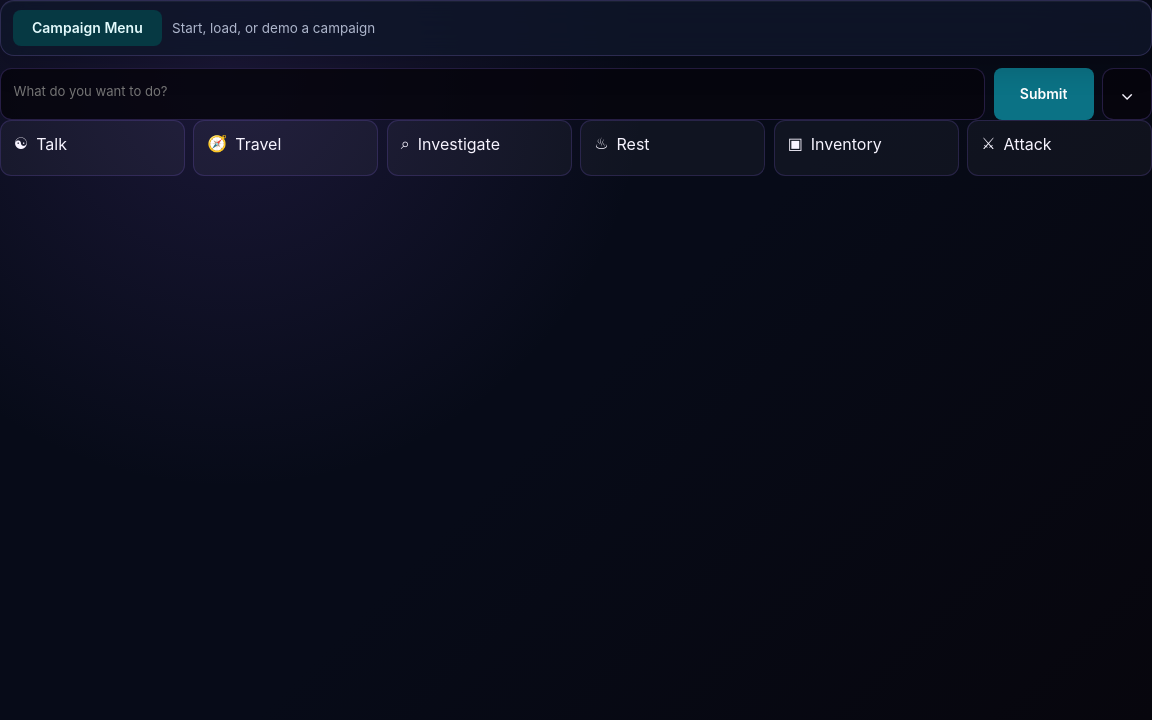
Test: RpgActionComposer › routes New Campaign from the launcher into the full campaign wizard
Click the button "Campaign Menu" at (87, 28), box [13,10,162,46]
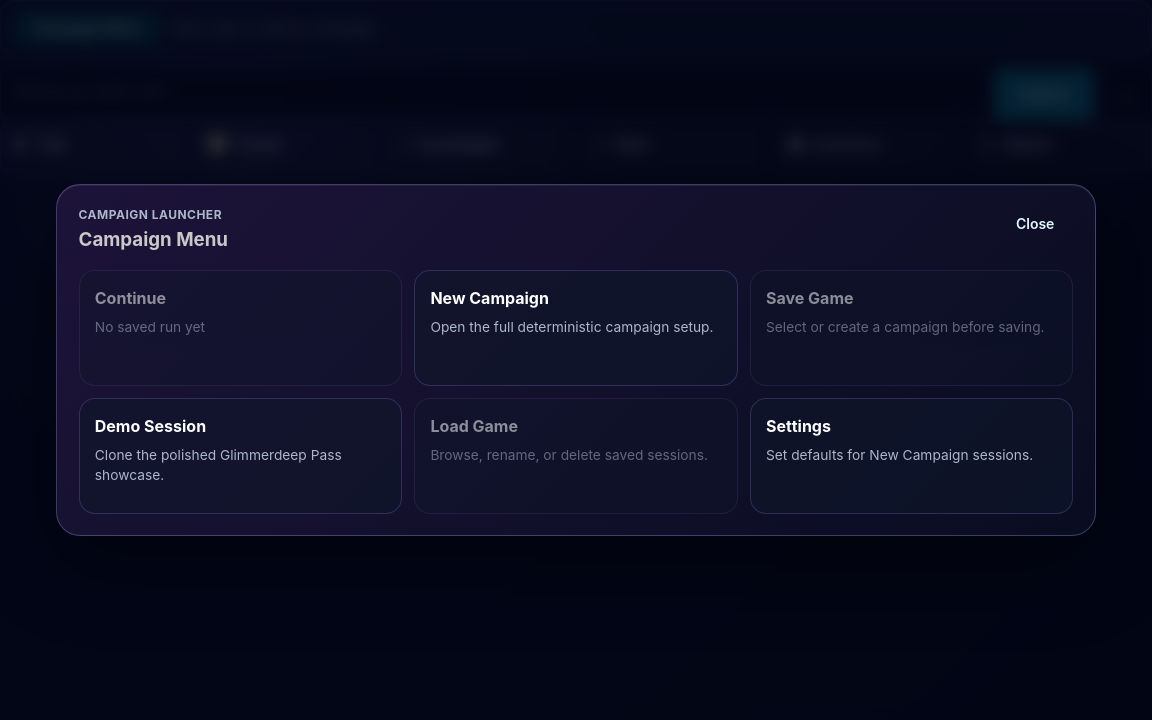
Click the button "New Campaign Open the full deterministic campaign setup." at (576, 328), box [414,270,738,386]
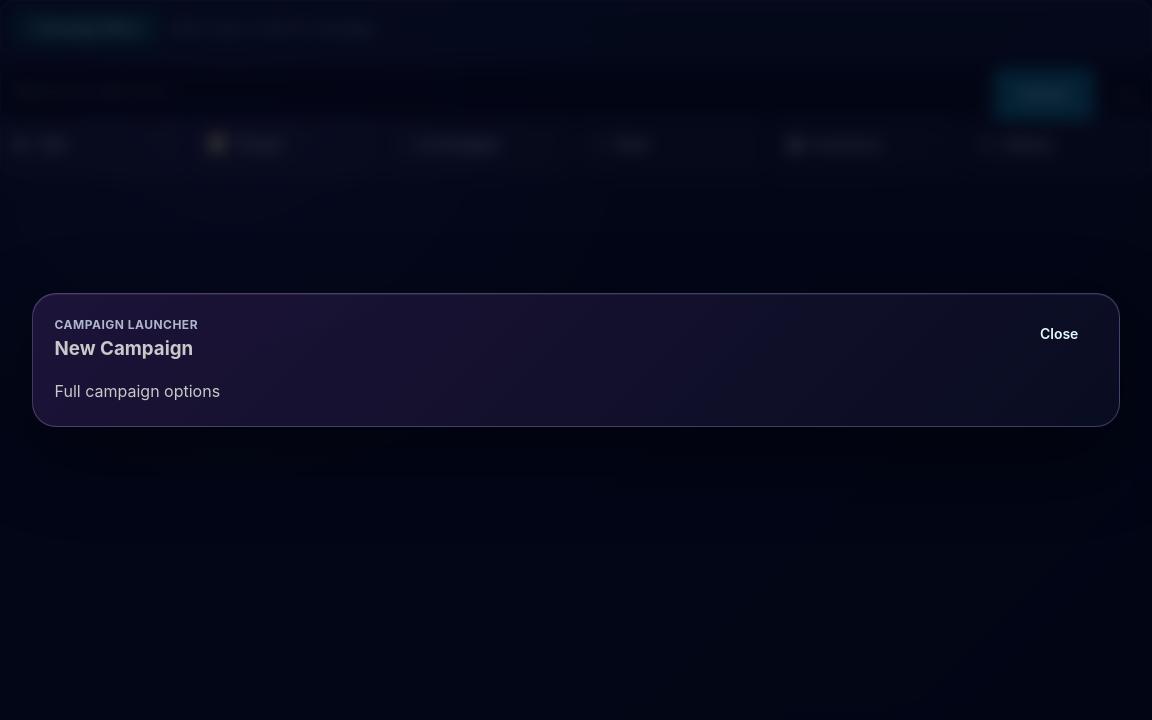
Result: the dialog "New Campaign" is shown
Result: the text "Full campaign options" is shown at [55,381,220,401]
